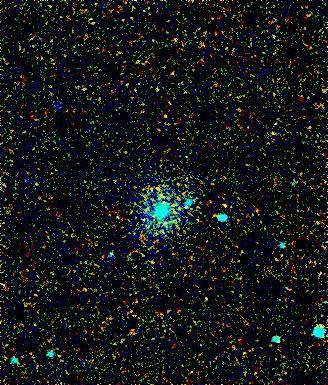star: (209, 192, 239, 222)
